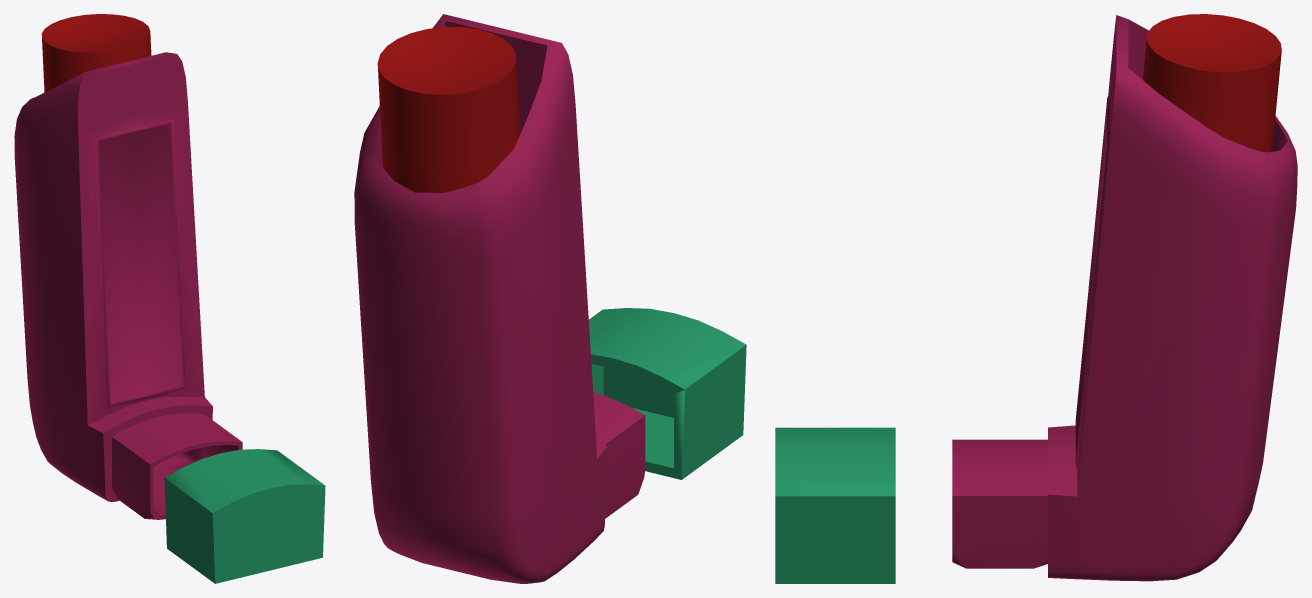
Rendered from inhaler.fbx.
3 renders of one model, left to right at view 1: azimuth 30°, elevation 25°; view 2: azimuth 150°, elevation 25°; view 3: azimuth 270°, elevation 25°, orthographic. The views are drawn at different scales.
Parts seen in each view (by area): view 1: inhaler_support, inhaler_bouchon, inhaler_pshit; view 2: inhaler_support, inhaler_pshit, inhaler_bouchon; view 3: inhaler_support, inhaler_bouchon, inhaler_pshit.
Part boxes in pixels (bbox=[...]): inhaler_support: bbox=[14, 52, 242, 519]; inhaler_bouchon: bbox=[164, 449, 325, 583]; inhaler_pshit: bbox=[41, 14, 151, 92]; inhaler_support: bbox=[354, 14, 645, 583]; inhaler_pshit: bbox=[377, 27, 519, 192]; inhaler_bouchon: bbox=[588, 308, 746, 479]; inhaler_support: bbox=[952, 15, 1297, 581]; inhaler_bouchon: bbox=[775, 427, 895, 583]; inhaler_pshit: bbox=[1142, 14, 1281, 152].
Bounding box in the file's own units: 1.59 × 4.53 × 4.17.
